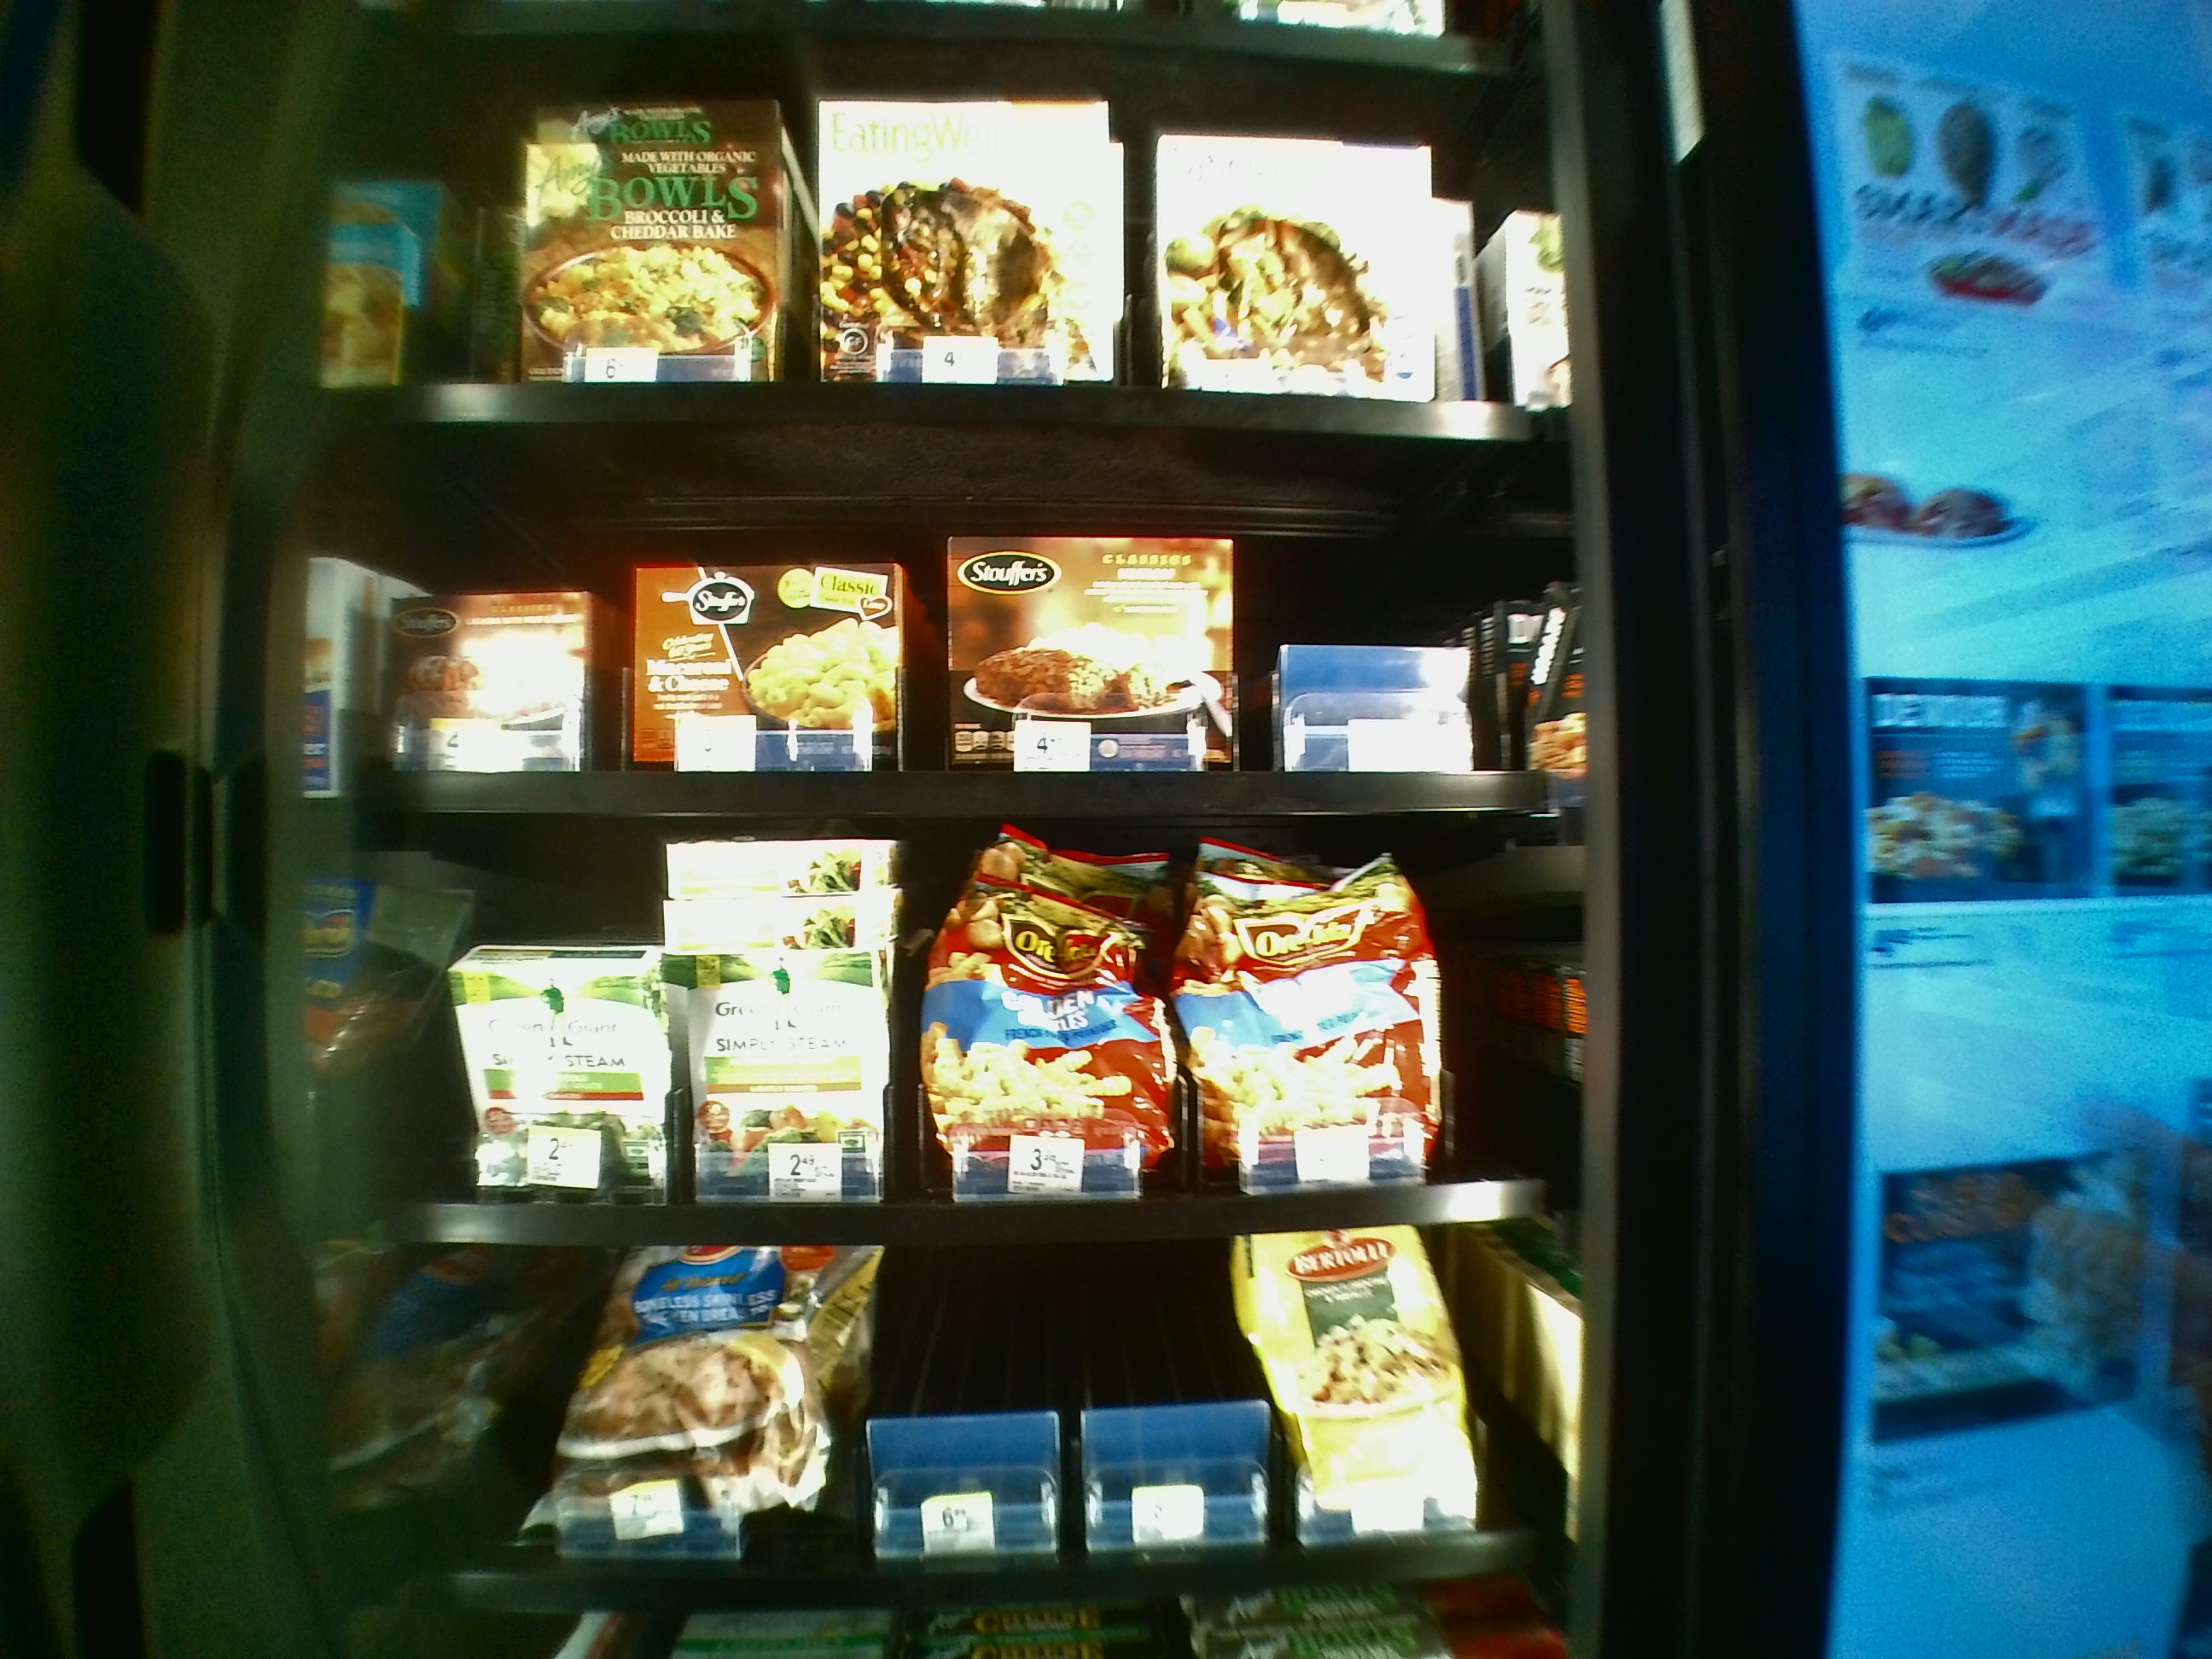shelf: (359, 828, 1566, 1234), (359, 427, 1569, 817)
